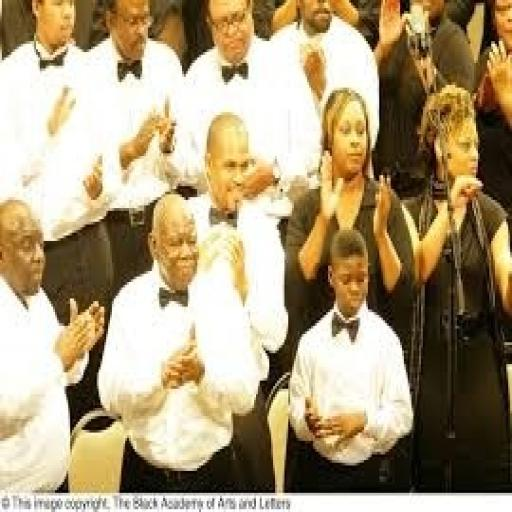clapping: (242, 32, 435, 446), (0, 10, 189, 290), (101, 172, 254, 512), (152, 68, 299, 418), (212, 5, 388, 287), (196, 2, 320, 280), (0, 181, 96, 474), (0, 17, 110, 256)
